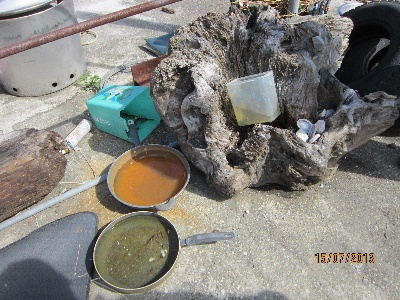box: (86, 83, 163, 144), (225, 70, 282, 126)
bucket: (1, 1, 92, 97)
plate: (92, 210, 182, 294), (107, 142, 191, 213)
